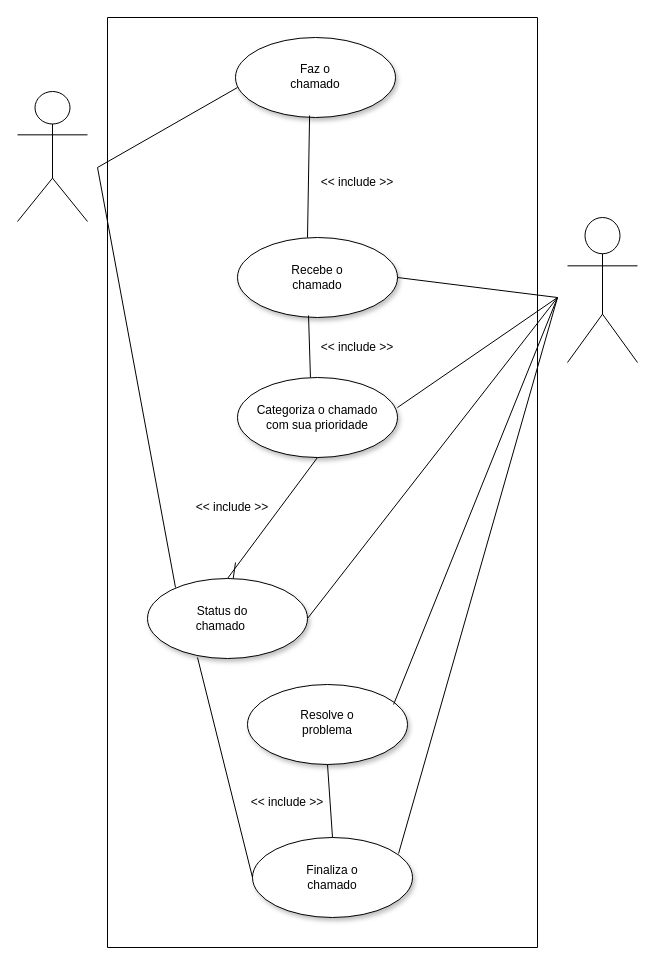
This 655x965 diagram has some shape labels left out. The centre of each missing label's shape, as x and y in pixels:
Cliente: point 52,156
Colaborador: point 602,289
